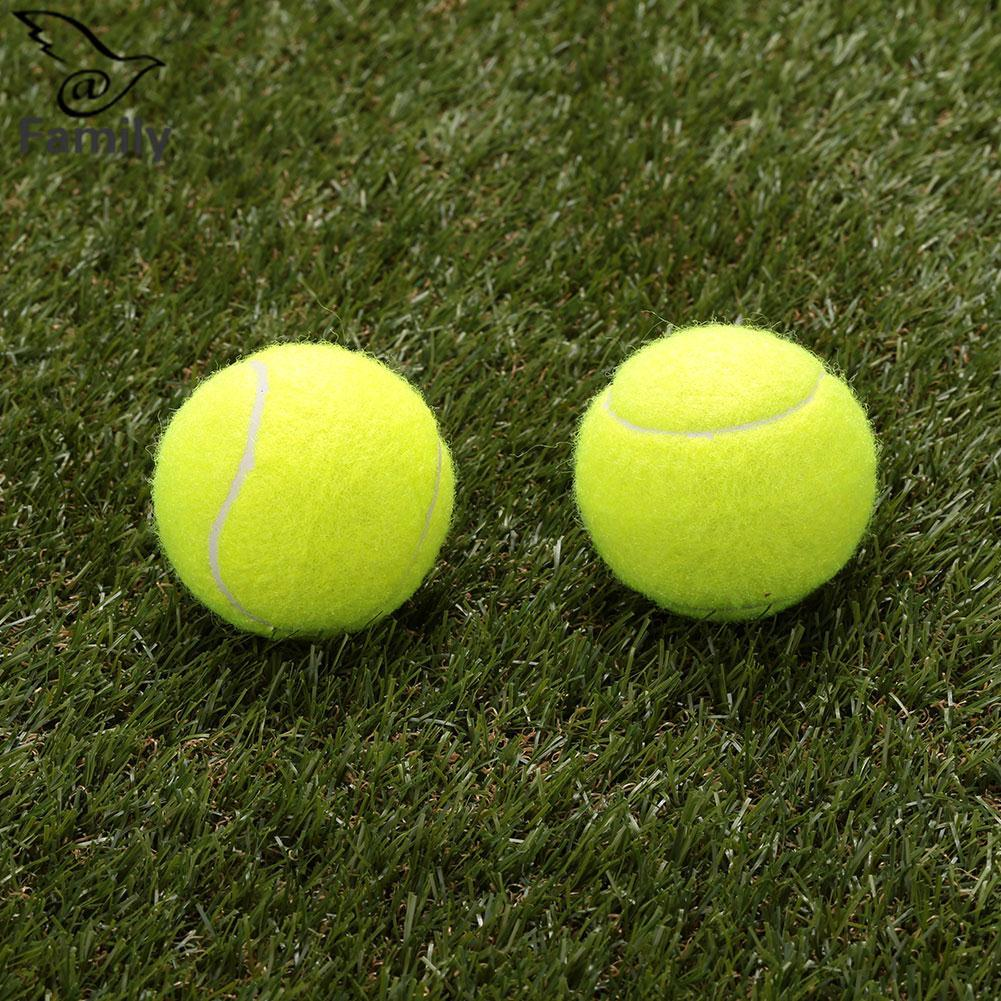aim: (141, 340, 461, 643), (572, 321, 879, 623)
